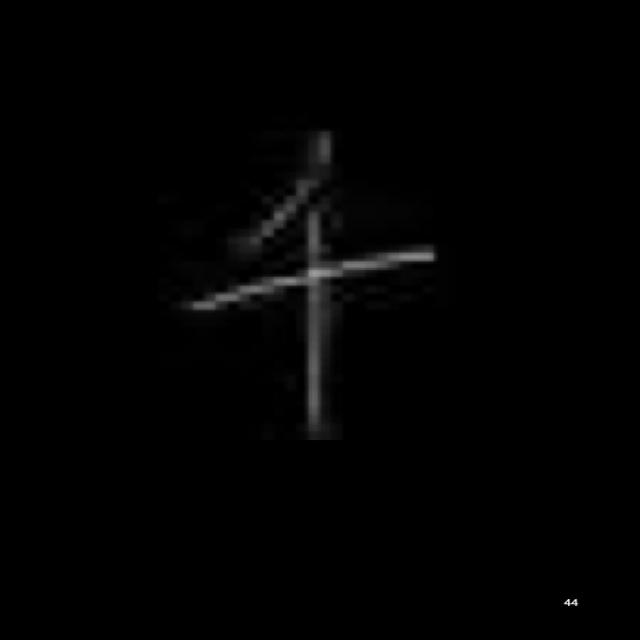1000 -a thousand-: (183, 124, 449, 438)
